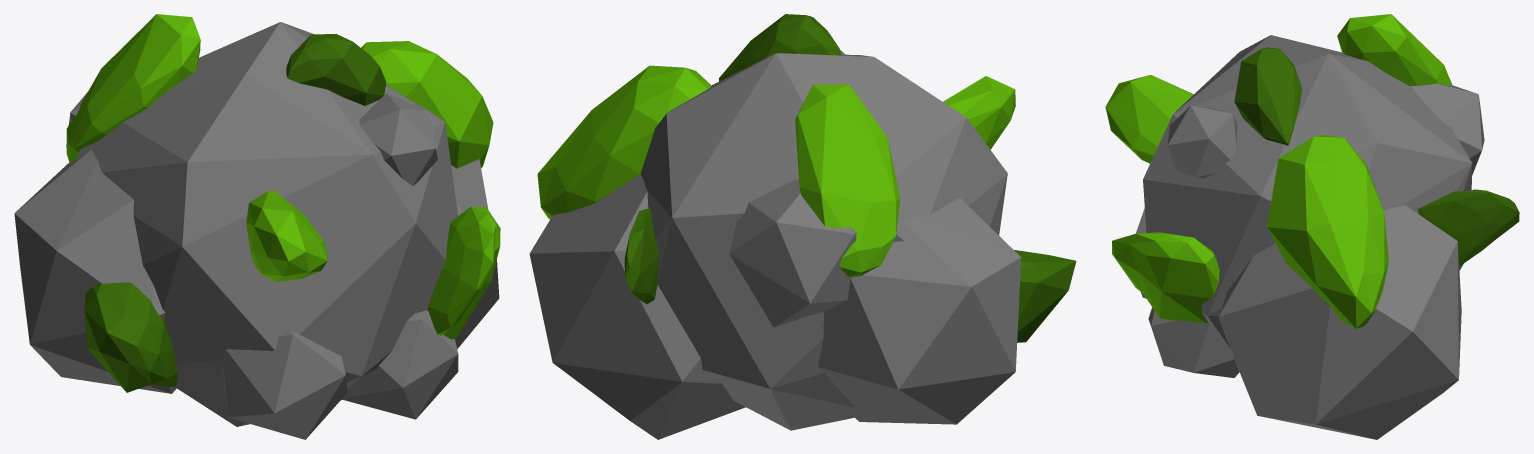
The model's file is EarthstoneOre.fbx.
3 renders of one model, left to right at view 1: azimuth 30°, elevation 25°; view 2: azimuth 150°, elevation 25°; view 3: azimuth 270°, elevation 25°, orthographic. The views are drawn at different scales.
Parts seen in each view (by area): view 1: EarthstoneParticle.001; view 2: EarthstoneParticle.001; view 3: EarthstoneParticle.001.
Part boxes in pixels (bbox=[...]): EarthstoneParticle.001: bbox=[14, 14, 500, 439]; EarthstoneParticle.001: bbox=[529, 14, 1076, 439]; EarthstoneParticle.001: bbox=[1105, 14, 1519, 439].
Bounding box in the file's own units: 2.84 × 2.32 × 2.46.
